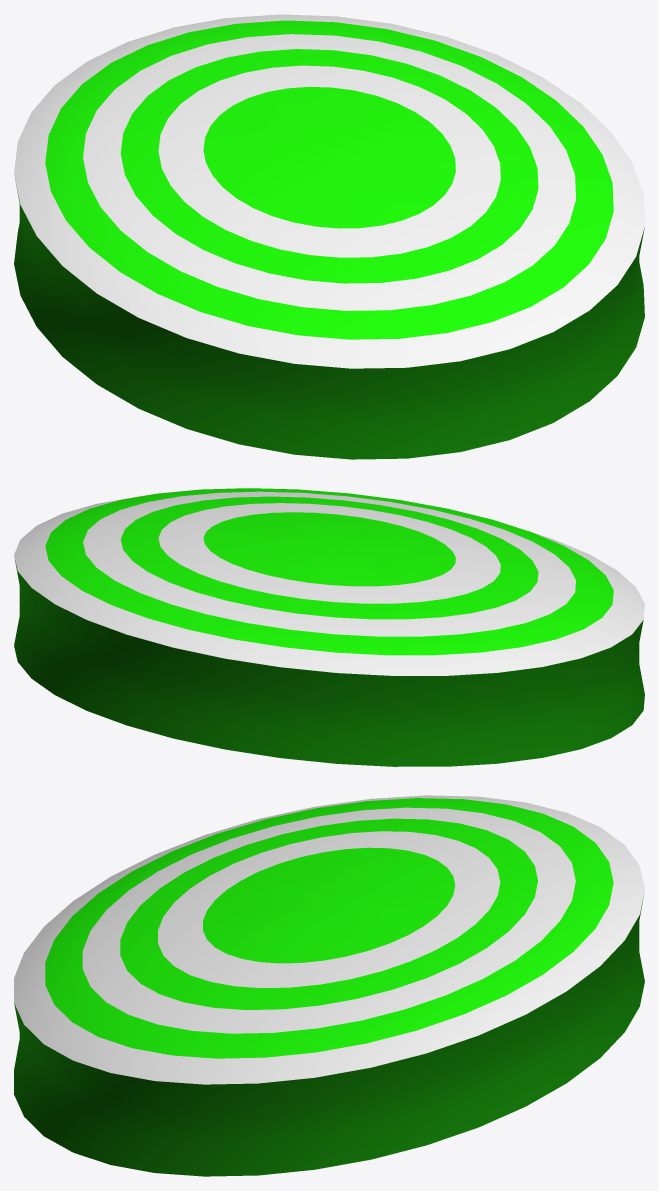
The model's file is CPI_CPI_D_FBX_12_Trampulrin.fbx.
3 renders of one model, top to bottom at view 1: azimuth 30°, elevation 25°; view 2: azimuth 150°, elevation 25°; view 3: azimuth 270°, elevation 25°, orthographic.
Visible parts, largest first — view 1: CPI_CPI_D_FBX_12_Trampulrin; view 2: CPI_CPI_D_FBX_12_Trampulrin; view 3: CPI_CPI_D_FBX_12_Trampulrin.
Boxes of the visible parts, left/top/right/bottom form: CPI_CPI_D_FBX_12_Trampulrin: left=14, top=14, right=644, bottom=459; CPI_CPI_D_FBX_12_Trampulrin: left=14, top=488, right=644, bottom=766; CPI_CPI_D_FBX_12_Trampulrin: left=14, top=795, right=644, bottom=1176.
Size of the model in its own units: 1.89 by 0.6564 by 1.86.
